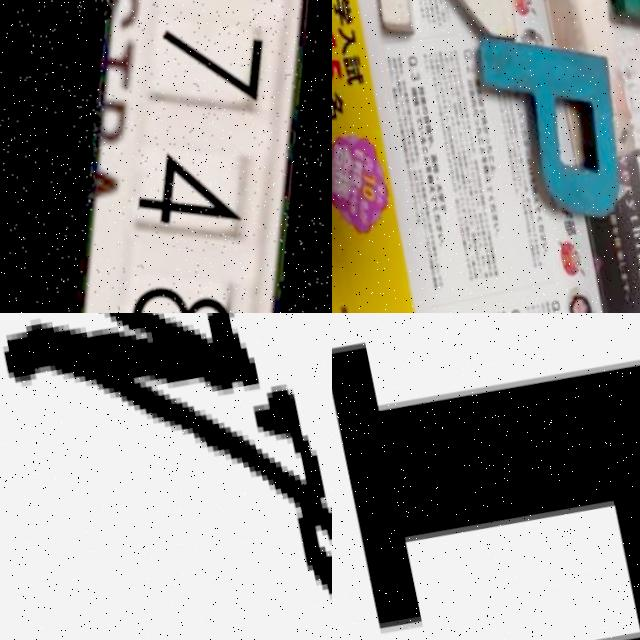4: (111, 109, 276, 260)
7: (131, 0, 292, 130)
8: (103, 239, 262, 313)
F: (332, 313, 640, 640)
N: (0, 313, 332, 568)
P: (464, 12, 637, 229)
Z: (350, 0, 532, 69)
